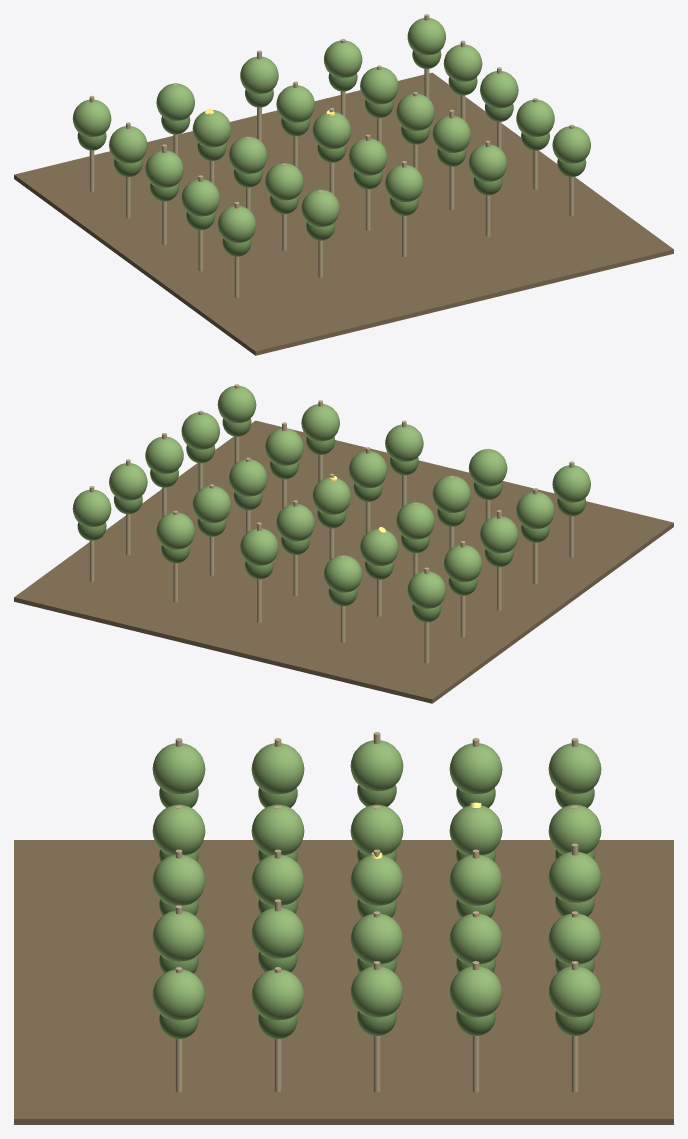
File: crop_field_corn.glb
3 views of the same model, one above another, from view 1: azimuth 30°, elevation 25°; view 2: azimuth 150°, elevation 25°; view 3: azimuth 270°, elevation 25° (orthographic). The views are drawn at different scales.
Visible parts, largest first — view 1: soil, leaf_4b_1, leaf_1b_1, leaf_3a_1, leaf_3b_1, leaf_5b_1, leaf_3e_1, leaf_2c_1, leaf_5a_1, leaf_2a_1, leaf_2d_1, leaf_4c_1 (+14 smaller); view 2: soil, leaf_4b_1, leaf_3b_1, leaf_1a_1, leaf_1d_1, leaf_2c_1, leaf_4d_1, leaf_5a_1, leaf_5b_1, leaf_5c_1, leaf_1b_1, leaf_1c_1 (+14 smaller); view 3: soil, leaf_1c_1, leaf_2c_1, leaf_5c_1, leaf_1a_1, leaf_1e_1, leaf_2a_1, leaf_2e_1, leaf_3e_1, leaf_4a_1, leaf_4e_1, leaf_5a_1 (+20 smaller).
Part boxes in pixels (bbox=[...]): soil: bbox=[14, 72, 673, 355]; leaf_4b_1: bbox=[265, 163, 303, 200]; leaf_1b_1: bbox=[156, 83, 194, 120]; leaf_3a_1: bbox=[145, 150, 183, 187]; leaf_3b_1: bbox=[229, 136, 267, 173]; leaf_5b_1: bbox=[301, 189, 339, 226]; leaf_3e_1: bbox=[480, 71, 518, 108]; leaf_2c_1: bbox=[276, 85, 314, 122]; leaf_5a_1: bbox=[217, 205, 256, 242]; leaf_2a_1: bbox=[109, 126, 147, 163]; leaf_2d_1: bbox=[360, 67, 398, 104]; leaf_4c_1: bbox=[349, 138, 387, 175]; soil: bbox=[14, 420, 673, 703]; leaf_4b_1: bbox=[432, 475, 470, 512]; leaf_3b_1: bbox=[396, 502, 434, 539]; leaf_1a_1: bbox=[407, 571, 445, 608]; leaf_1d_1: bbox=[156, 512, 194, 549]; leaf_2c_1: bbox=[276, 504, 314, 541]; leaf_4d_1: bbox=[265, 428, 303, 465]; leaf_5a_1: bbox=[552, 465, 590, 502]; leaf_5b_1: bbox=[468, 449, 507, 486]; leaf_5c_1: bbox=[385, 424, 423, 461]; leaf_1b_1: bbox=[324, 555, 362, 592]; leaf_1c_1: bbox=[240, 528, 278, 565]; soil: bbox=[14, 840, 673, 1124]; leaf_1c_1: bbox=[548, 852, 601, 902]; leaf_2c_1: bbox=[449, 855, 502, 905]; leaf_5c_1: bbox=[152, 855, 205, 905]; leaf_1a_1: bbox=[548, 743, 601, 794]; leaf_1e_1: bbox=[548, 966, 601, 1017]; leaf_2a_1: bbox=[449, 743, 502, 794]; leaf_2e_1: bbox=[449, 966, 502, 1017]; leaf_3e_1: bbox=[350, 966, 403, 1017]; leaf_4a_1: bbox=[251, 743, 304, 794]; leaf_4e_1: bbox=[251, 969, 304, 1020]; leaf_5a_1: bbox=[152, 743, 205, 794].
Size of the model in its own units: 10 by 2.35 by 10.
